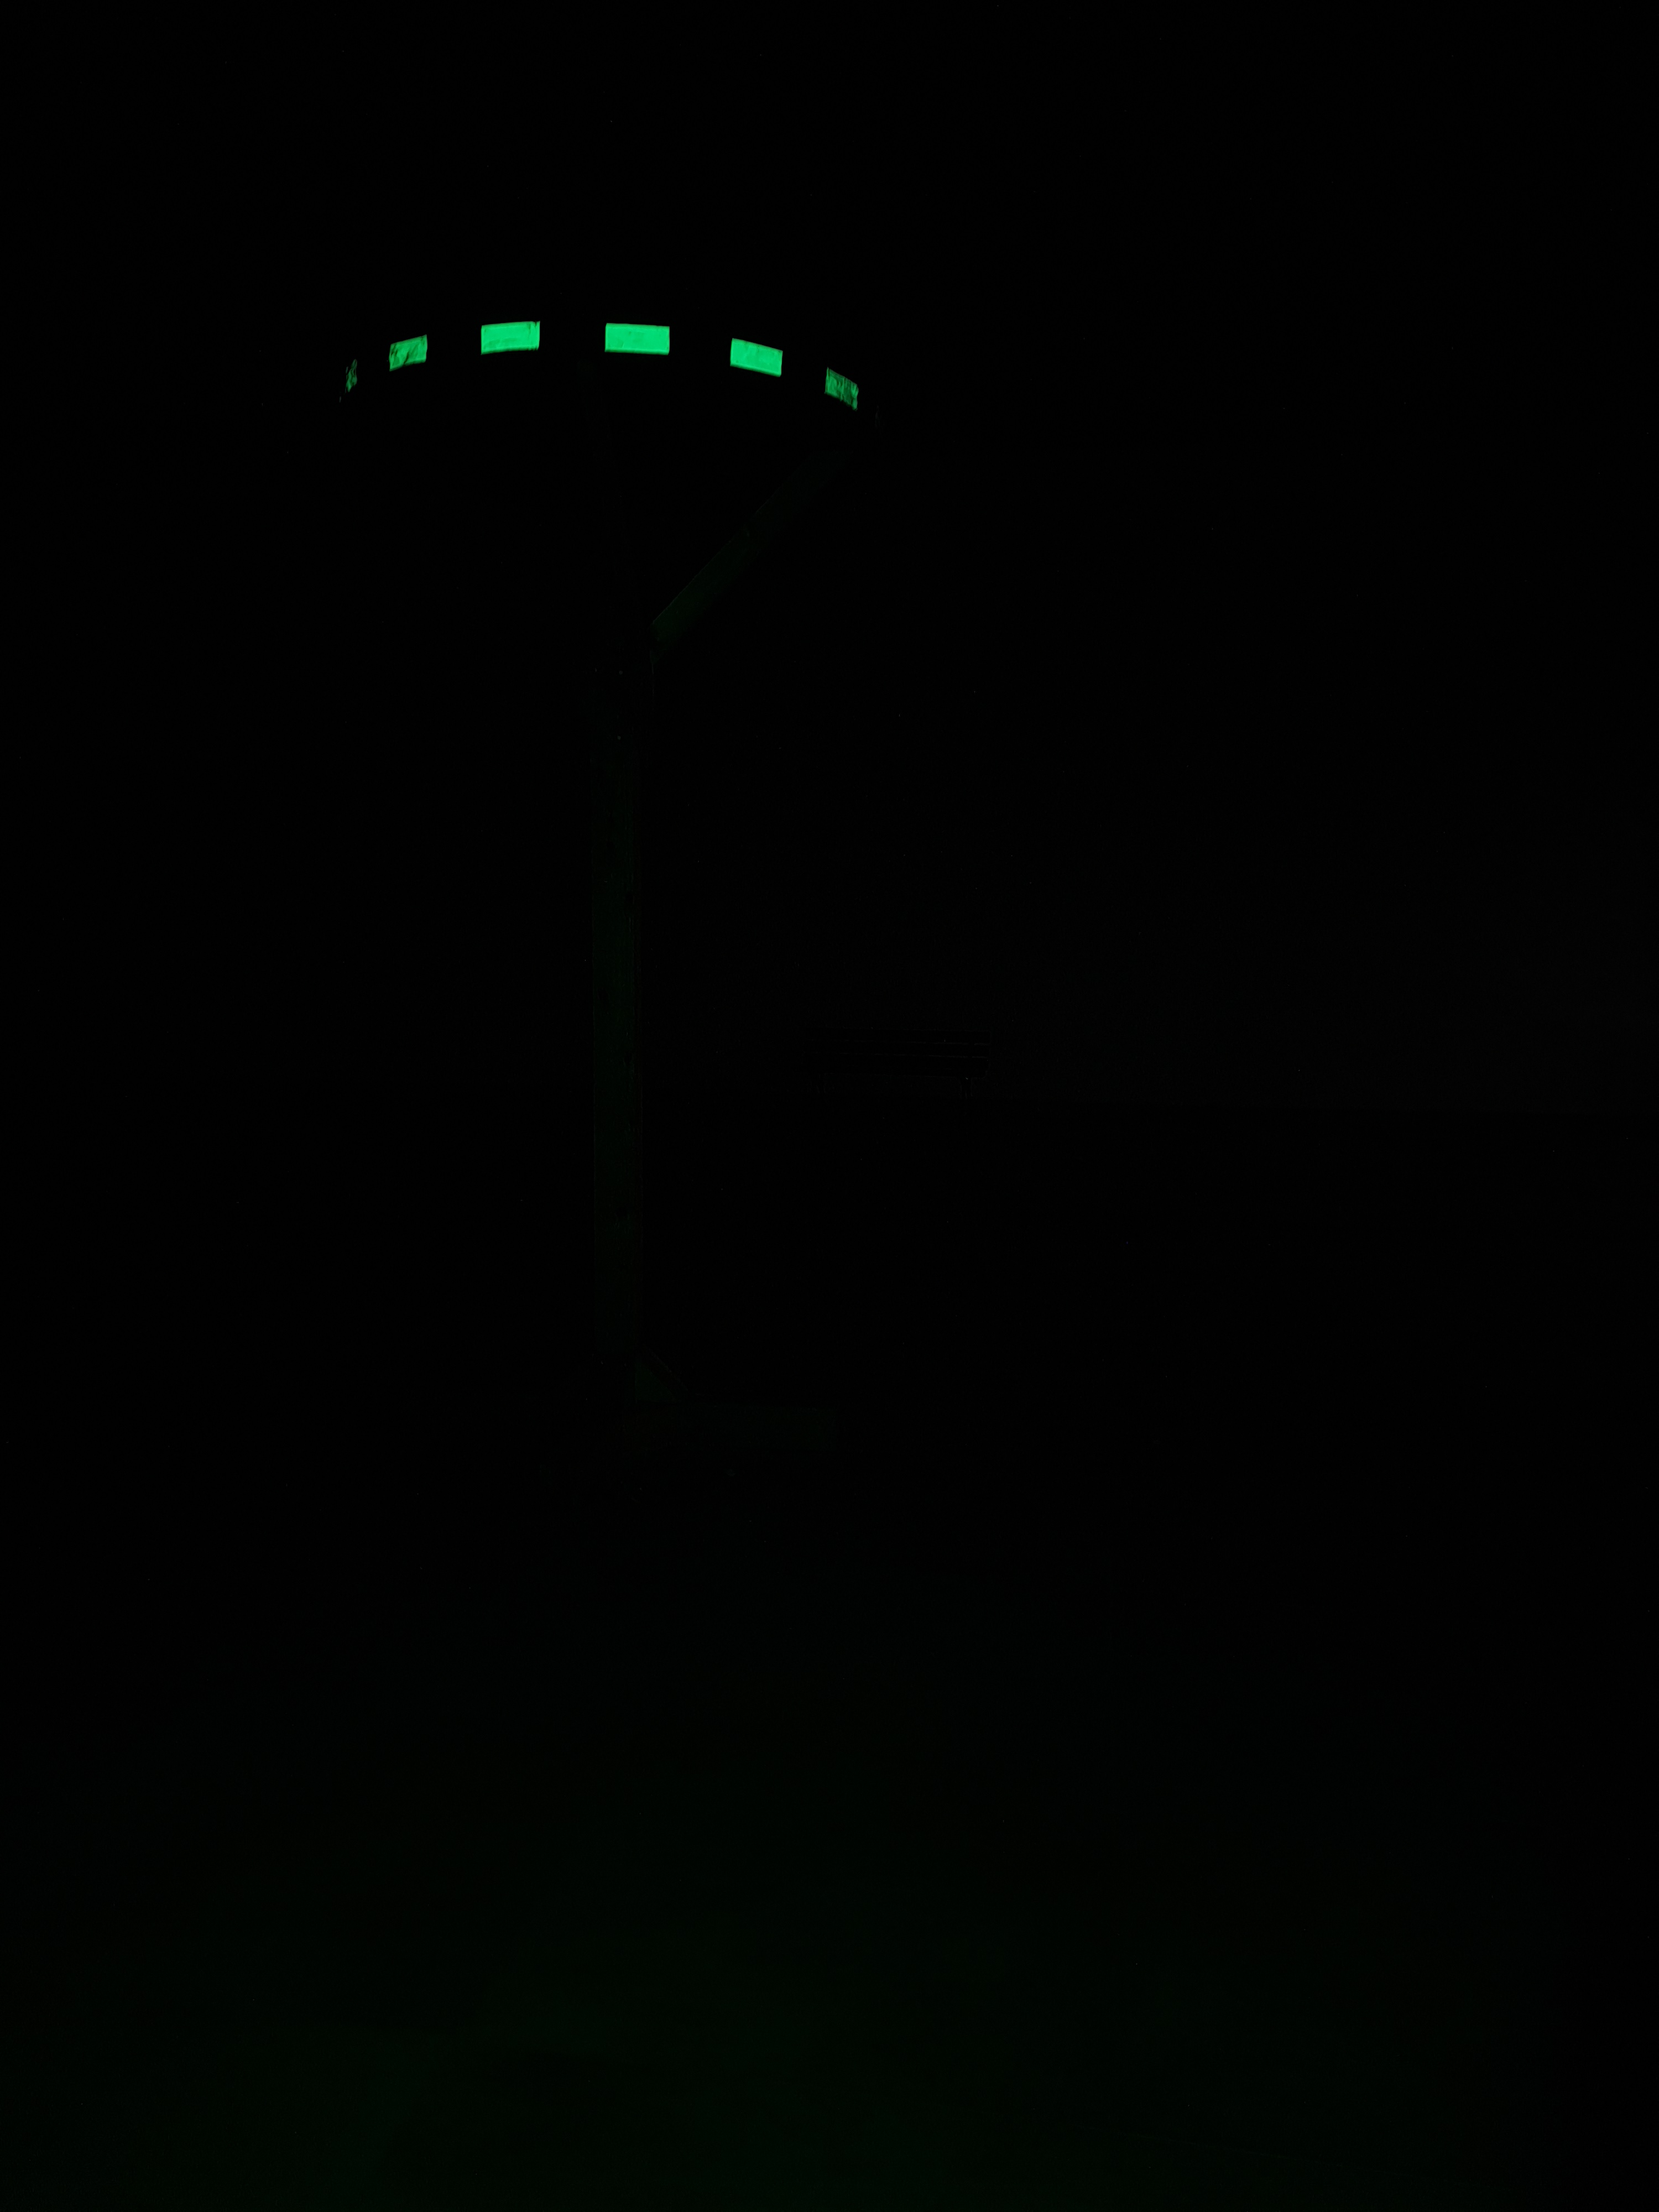hoop: (345, 314, 866, 432)
